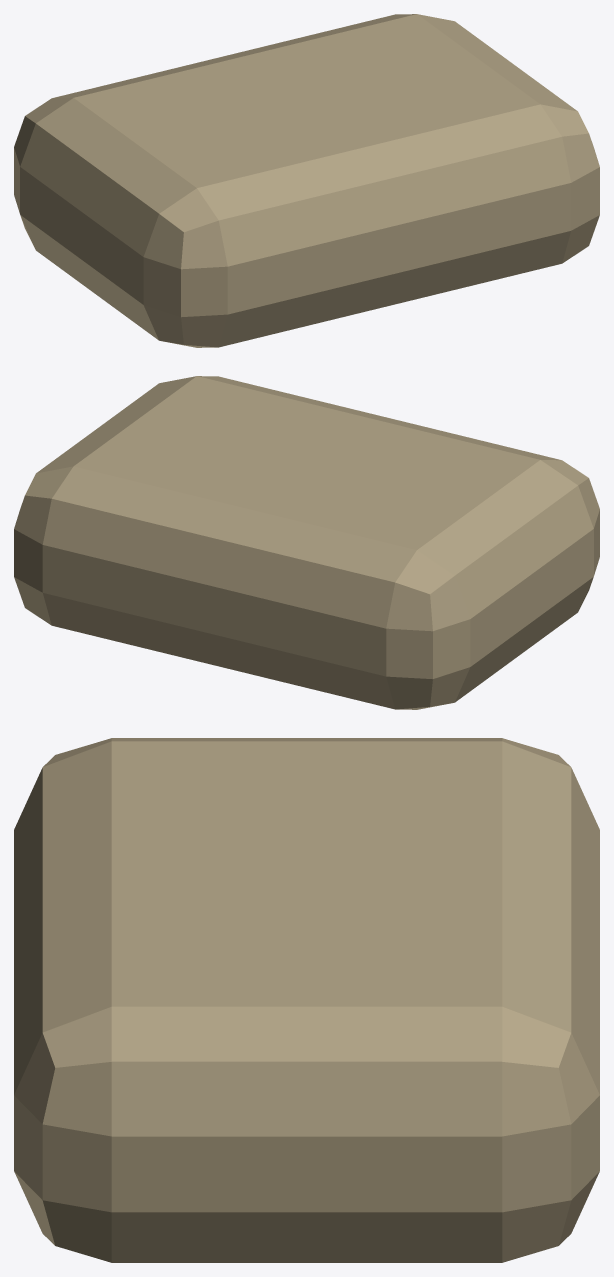
The model's file is sandbag.glb.
The picture shows the model from 3 angles, top to bottom: view 1: azimuth 30°, elevation 25°; view 2: azimuth 150°, elevation 25°; view 3: azimuth 270°, elevation 25°; orthographic projection. The views are drawn at different scales.
Parts seen in each view (by area): view 1: sand canvas; view 2: sand canvas; view 3: sand canvas.
Part boxes in pixels (<box>): sand canvas: <box>14,14,599,347</box>; sand canvas: <box>14,376,599,709</box>; sand canvas: <box>14,738,599,1262</box>.
Size of the model in its own units: 0.059 by 0.02 by 0.042.
